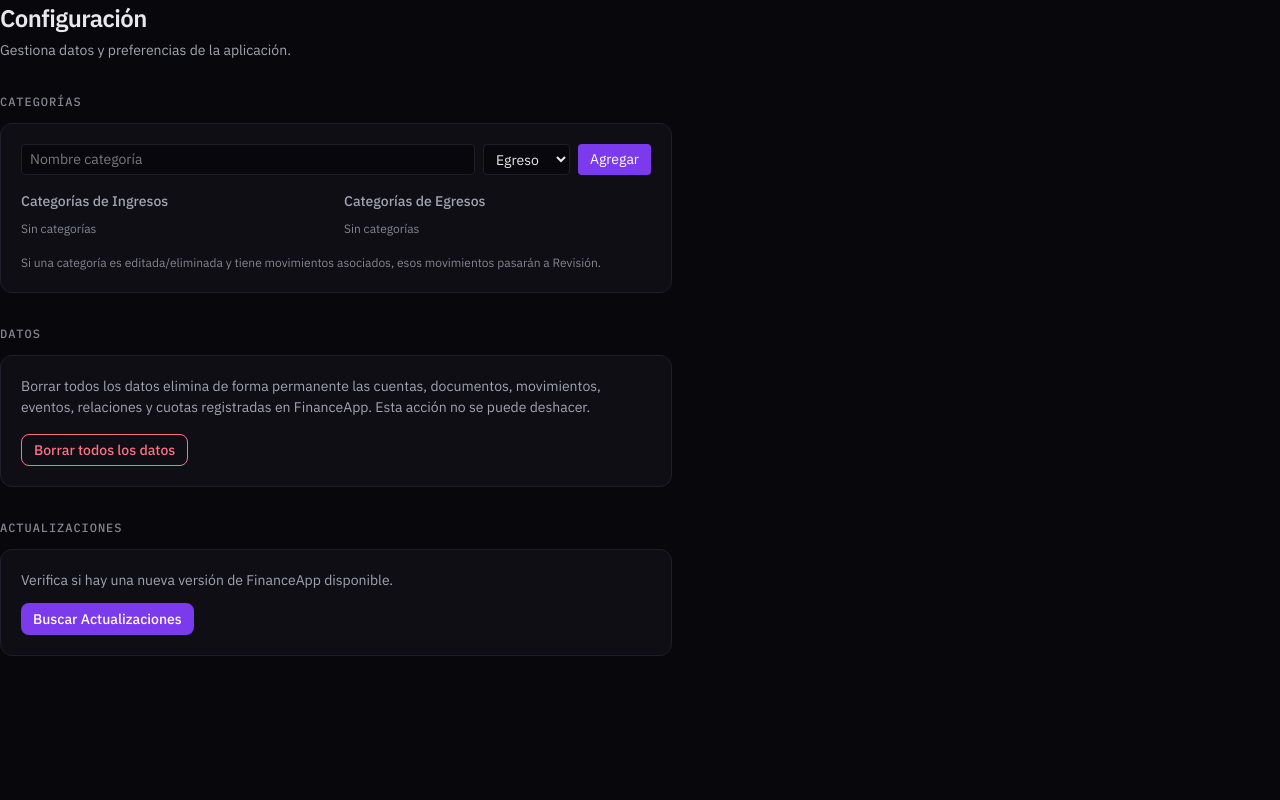
Scenario: SettingsPage › offers the found update and installs it on confirm
Click the button "Buscar Actualizaciones".
click(107, 619)  # box x1=21 y1=603 x2=194 y2=635
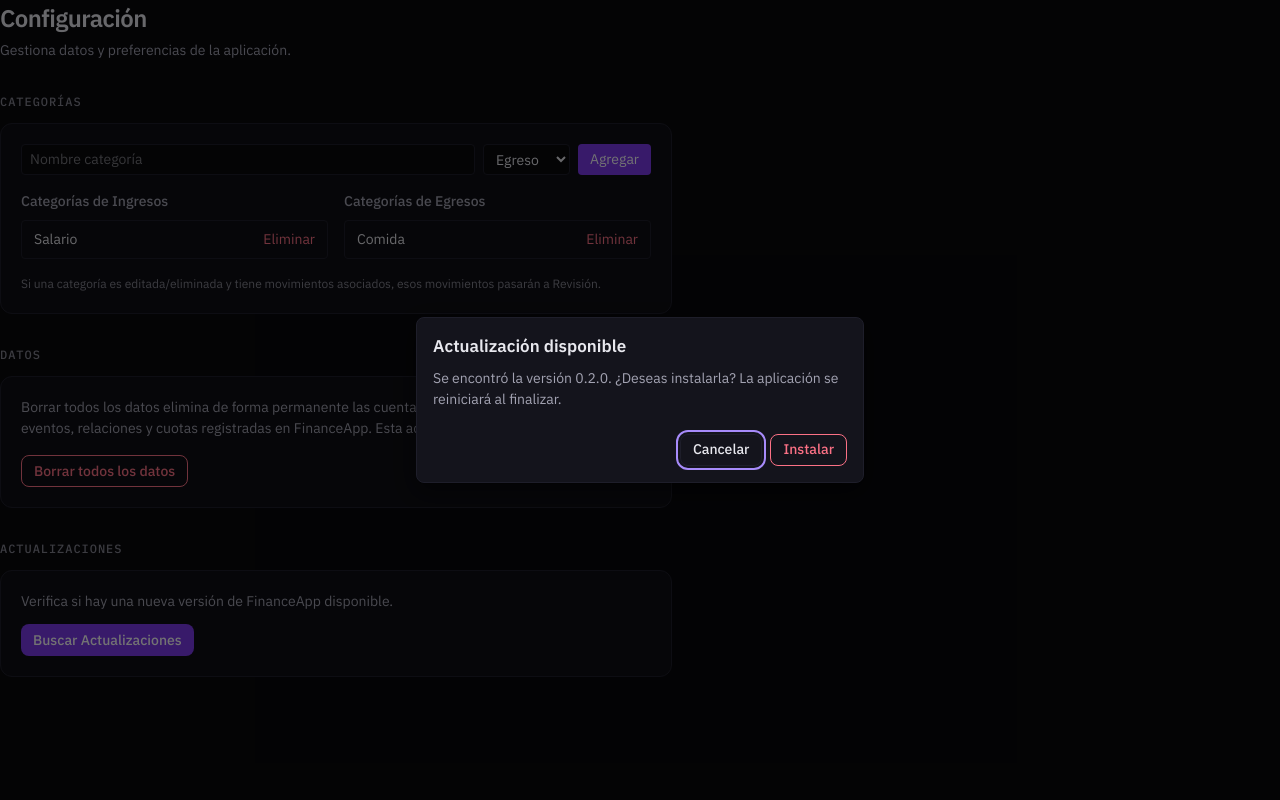
Check: the text "0.2.0" is shown, box x1=433 y1=369 x2=838 y2=408
Click the button "Instalar".
click(809, 450)  # box x1=770 y1=434 x2=847 y2=466
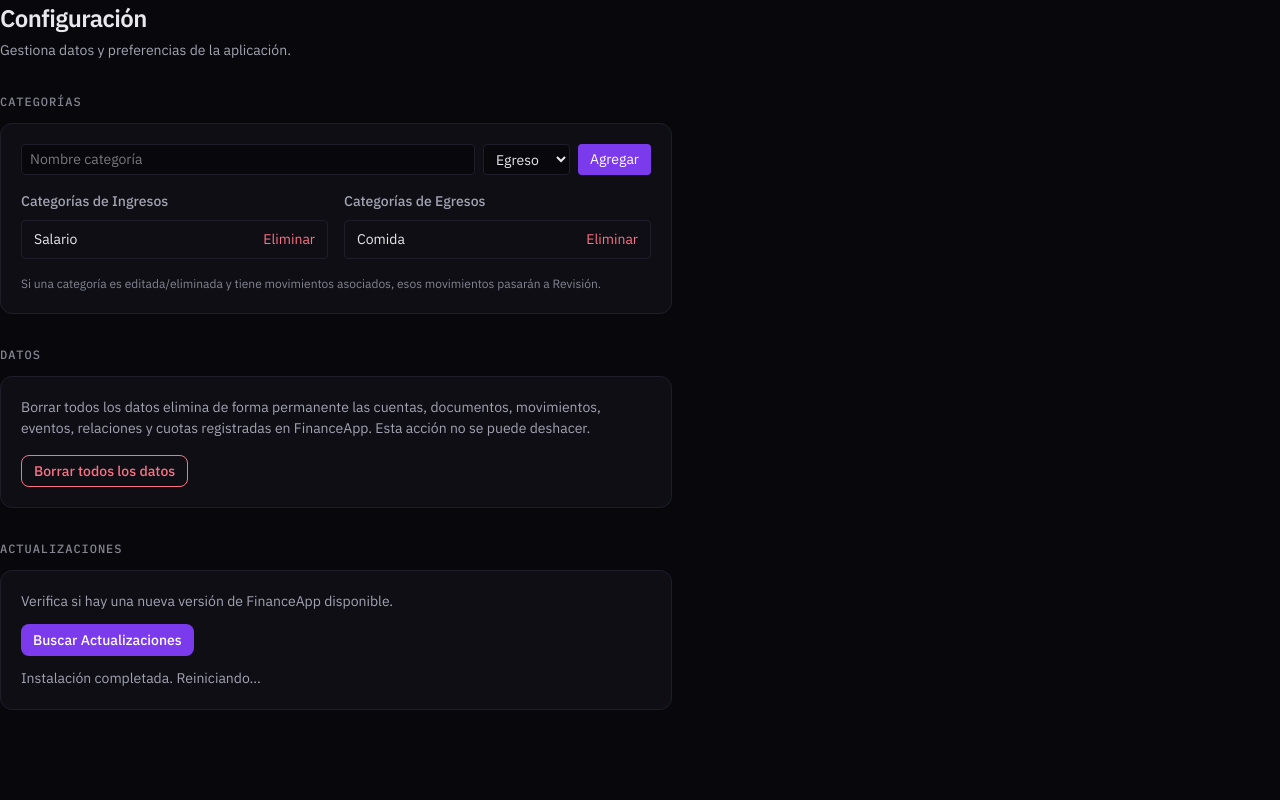
Check: the text "Instalación completada. Reiniciando..." is shown, box x1=21 y1=669 x2=261 y2=687
